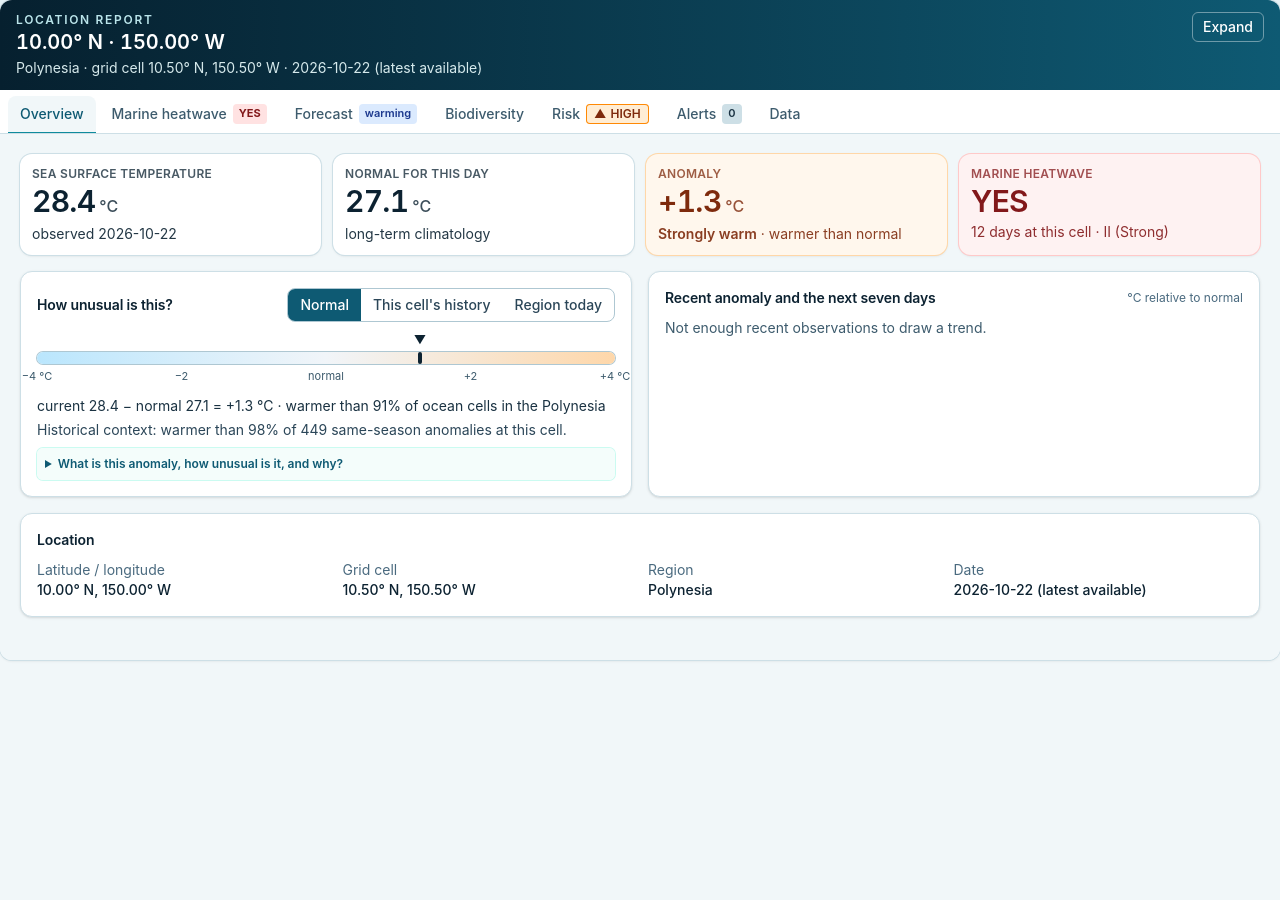
🤖 Explainable AI — Why this forecast? › loads only when opened and shows the actual inputs, seven predictions and the sensitivity caveat
Click the tab "Forecast warming": (356, 115) [283,96,429,134]
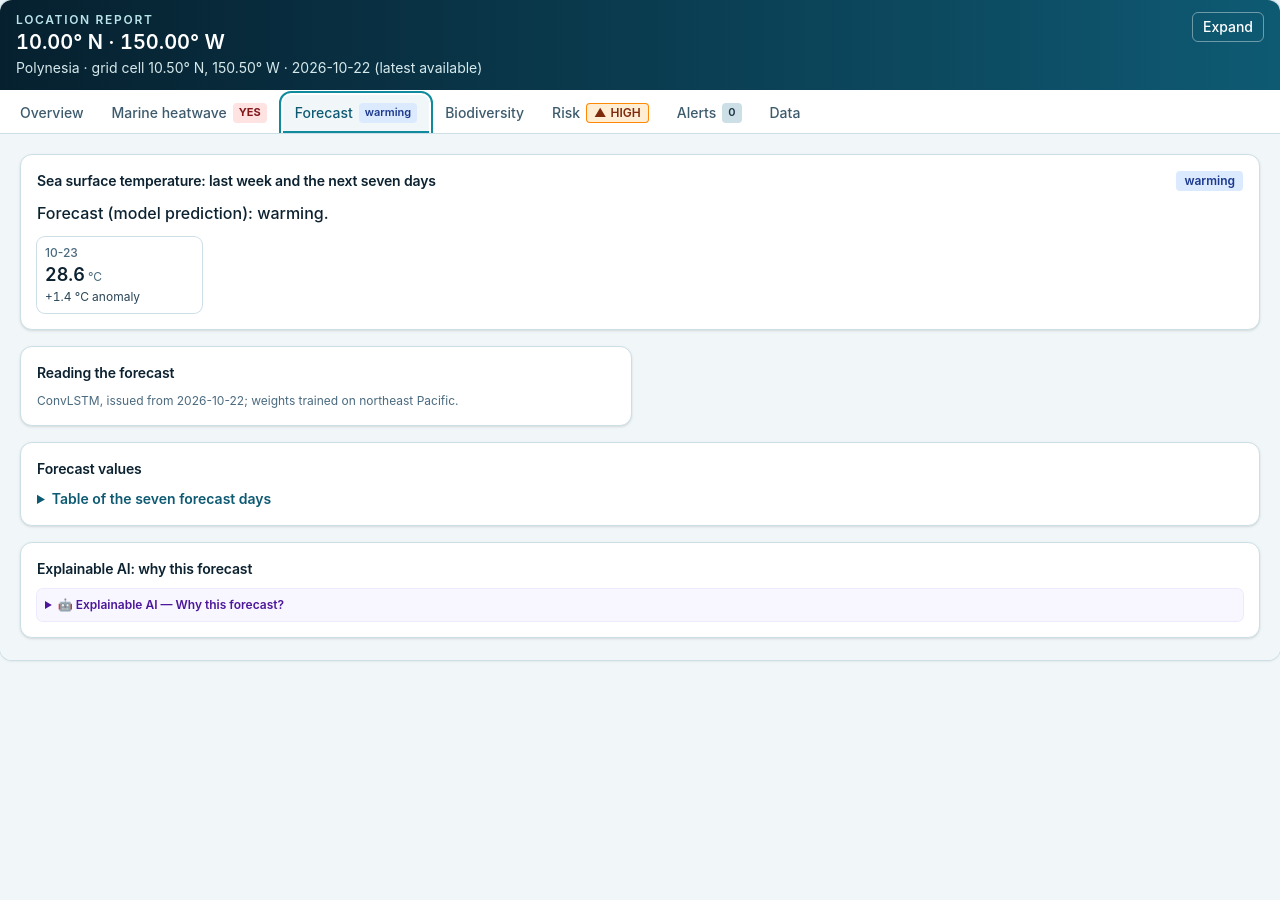
Click the heading "🤖 Explainable AI — Why this forecast?": (171, 604) [58,597,284,612]
(page scrolled)
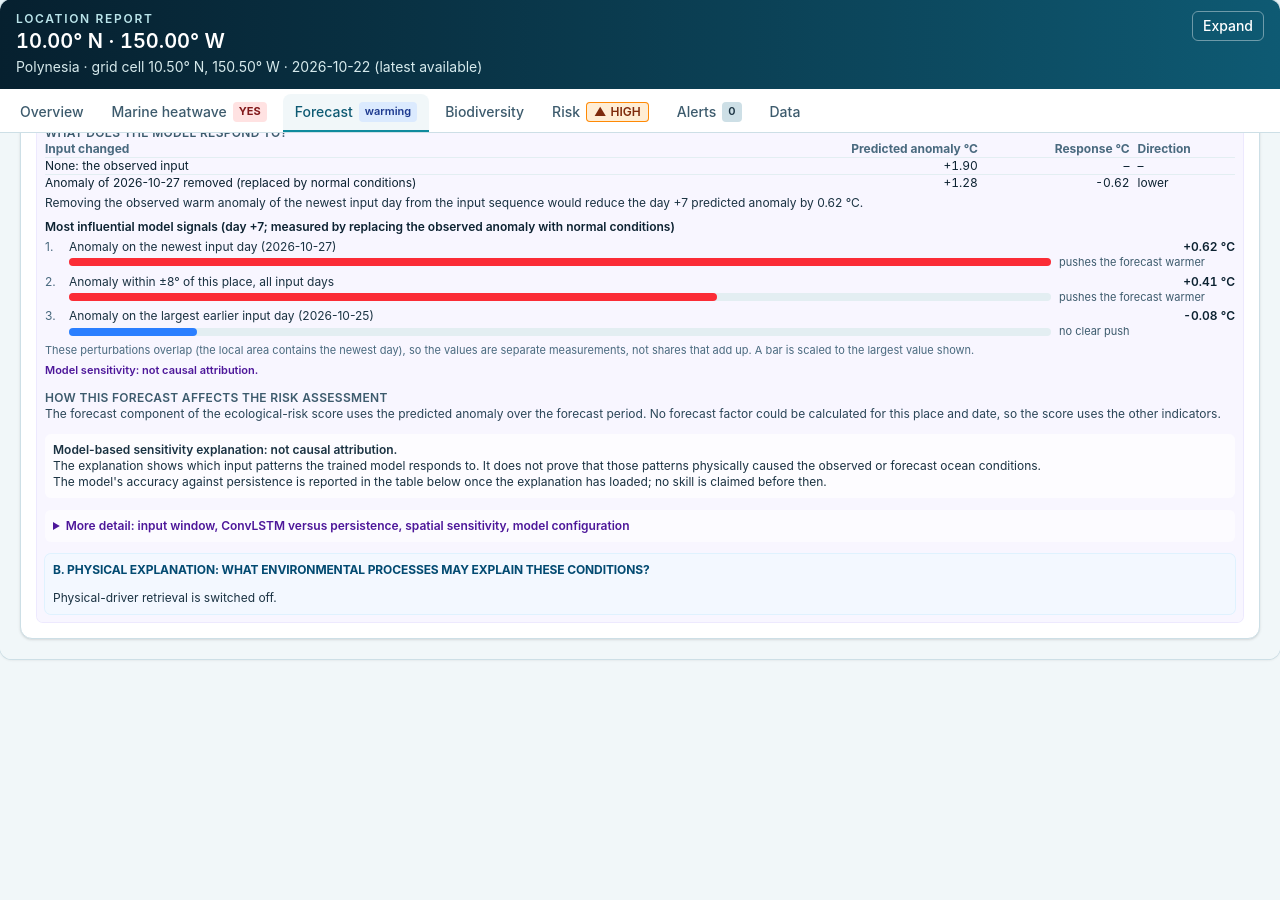
Expected: the text "Model sensitivity: not causal attribution." is shown, [45,363,258,377]
Expected: the text "Model-based sensitivity explanation: not causal attribution." is shown, [53,442,397,457]
